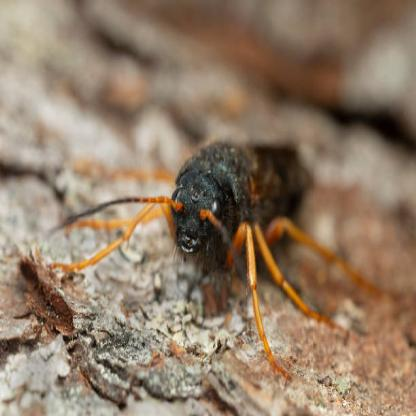sawfly: (30, 119, 400, 378)
